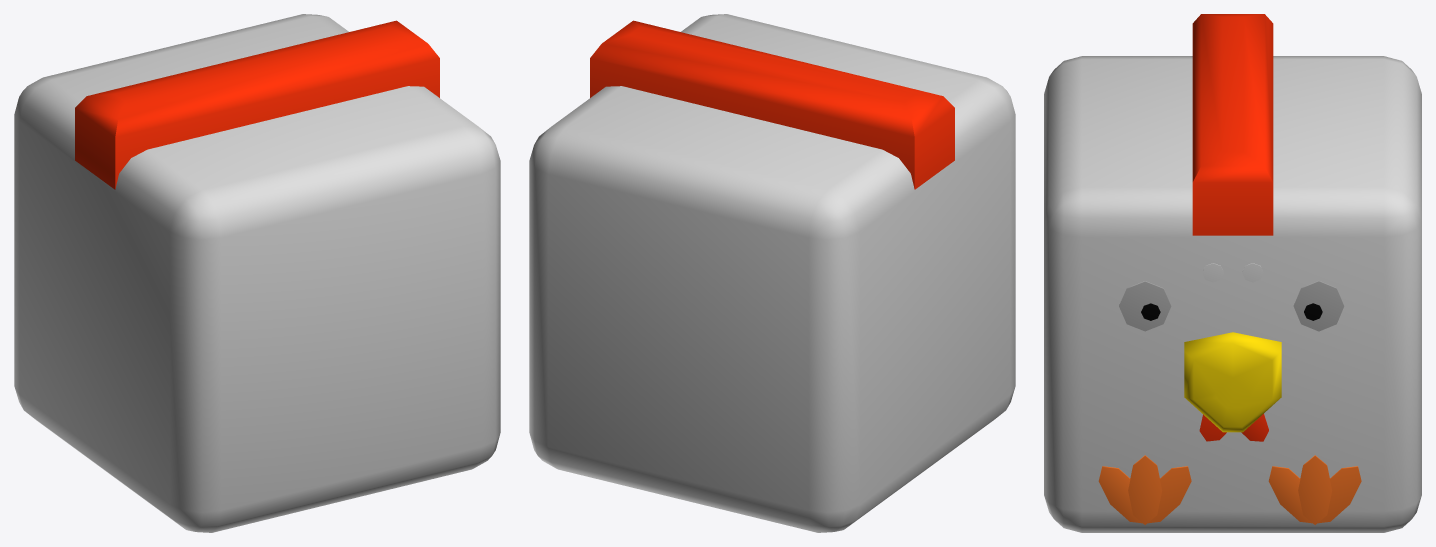
Rendered from chicken.fbx.
3 renders of one model, left to right at view 1: azimuth 30°, elevation 25°; view 2: azimuth 150°, elevation 25°; view 3: azimuth 270°, elevation 25°, orthographic.
Visible parts, largest first — view 1: Cube, Cube.001; view 2: Cube, Cube.001; view 3: Cube, Cube.001, Cylinder.003, Cylinder.008, Cylinder.013, Cylinder.006, Cylinder.007, Cylinder.010, Cylinder.011, Cylinder.009, Cylinder.012, Cylinder.015.
Boxes of the visible parts, <box> form: Cube: <box>14,14,500,532</box>; Cube.001: <box>75,20,439,189</box>; Cube: <box>529,14,1015,532</box>; Cube.001: <box>590,20,954,189</box>; Cube: <box>1044,56,1421,532</box>; Cube.001: <box>1192,14,1273,235</box>; Cylinder.003: <box>1184,332,1281,432</box>; Cylinder.008: <box>1128,455,1162,524</box>; Cylinder.013: <box>1298,455,1332,524</box>; Cylinder.006: <box>1119,281,1171,331</box>; Cylinder.007: <box>1293,281,1344,331</box>; Cylinder.010: <box>1098,466,1142,523</box>; Cylinder.011: <box>1268,466,1312,523</box>; Cylinder.009: <box>1148,466,1191,523</box>; Cylinder.012: <box>1318,466,1361,523</box>; Cylinder.015: <box>1241,414,1268,441</box>.
Bounding box in the file's own units: 218 × 223 × 200.
